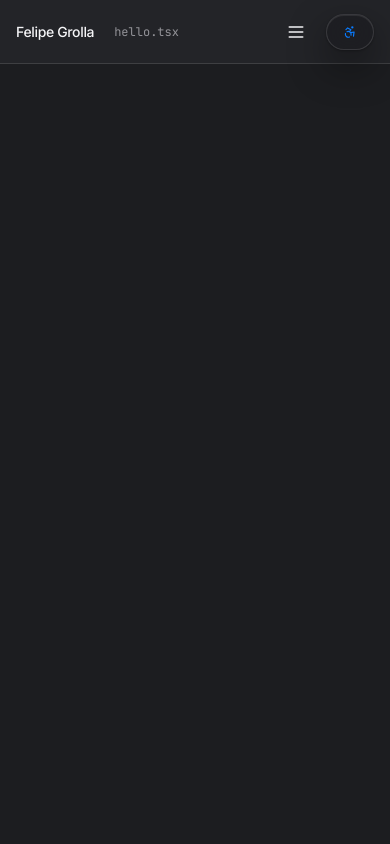
it: Header — navegação mobile › abre o drawer com as quatro rotas
Click the button named "Abrir menu de navegação" at (296, 32), box top-left (274, 10), bottom-right (318, 54)
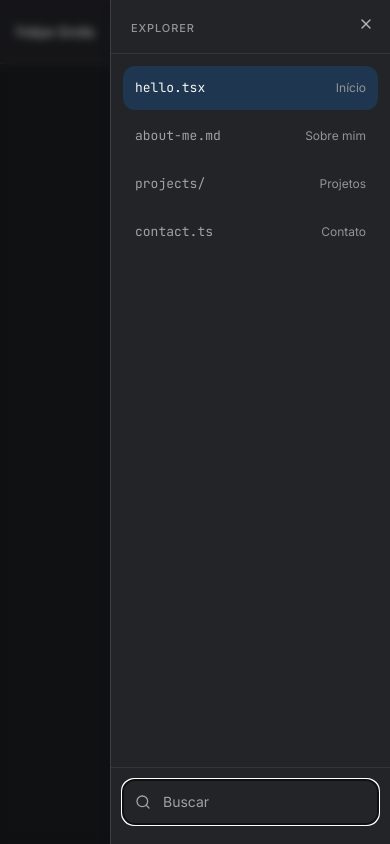
Expected: the link "hello.tsx Início" is shown, top-left (123, 66), bottom-right (378, 110)
Expected: the link "about-me.md Sobre mim" is shown, top-left (135, 127), bottom-right (366, 144)
Expected: the link "projects/ Projetos" is shown, top-left (135, 175), bottom-right (366, 192)
